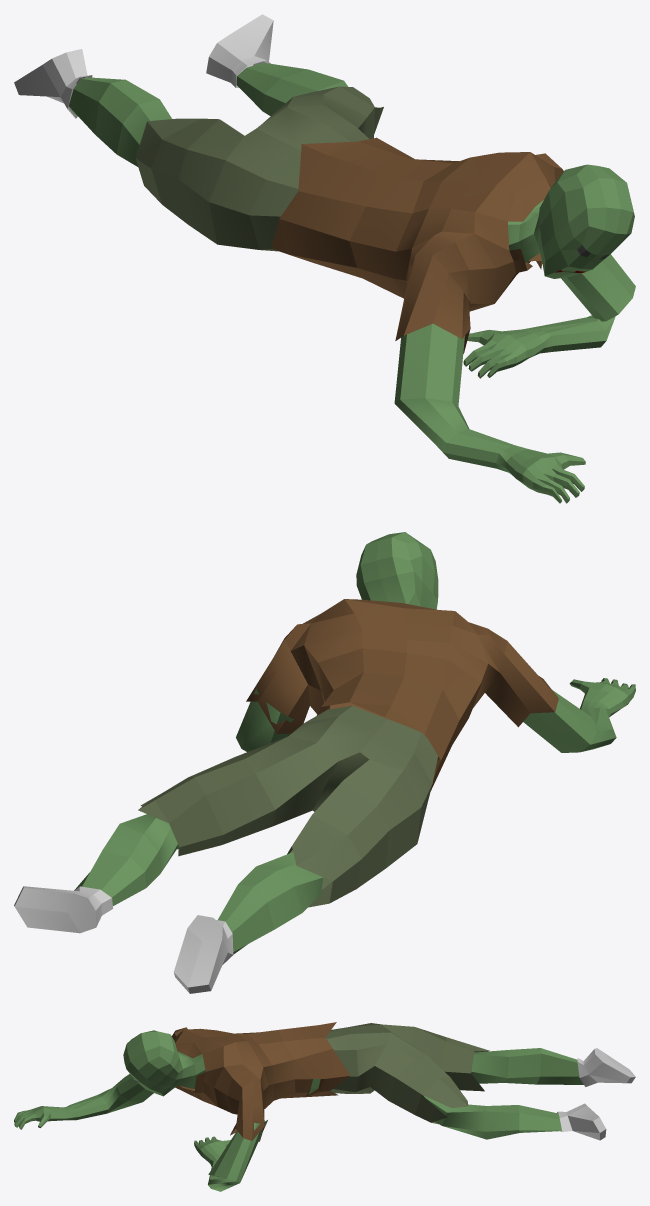
Rendered from ZombieCrawl(87).obj.
3 renders of one model, top to bottom at view 1: azimuth 30°, elevation 25°; view 2: azimuth 150°, elevation 25°; view 3: azimuth 270°, elevation 25°, orthographic. The views are drawn at different scales.
Parts seen in each view (by area): view 1: Object001; view 2: Object001; view 3: Object001.
Part boxes in pixels (x1=…): Object001: x1=14, y1=14, x2=635, y2=503; Object001: x1=14, y1=532, x2=635, y2=993; Object001: x1=14, y1=1022, x2=635, y2=1191.
Size of the model in its own units: 25.65 by 18.55 by 72.58.
